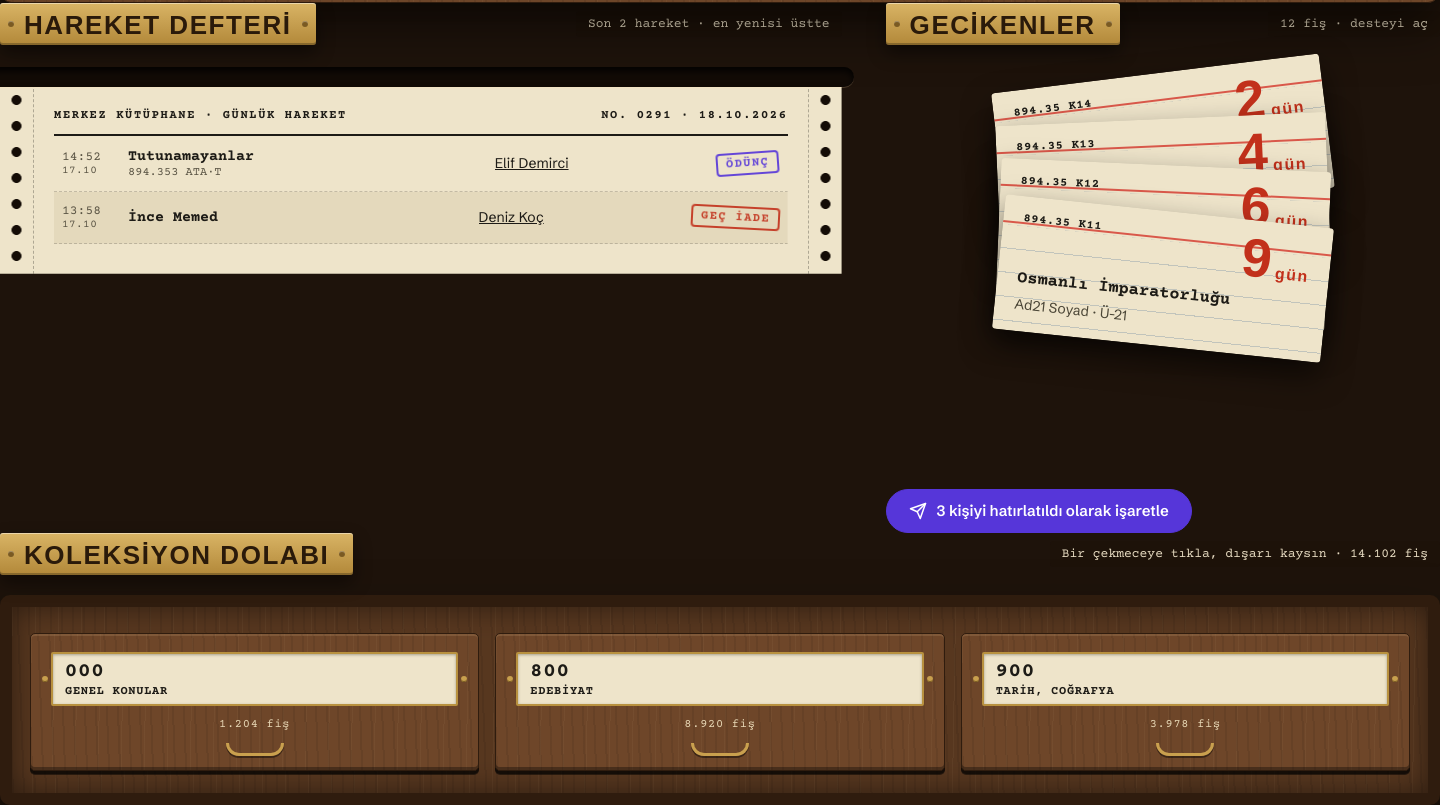
Test case: PanelSayfasi › çekmeceyi tıklayınca açar ve kataloğa bağlar
The image size is (1440, 805).
(page scrolled)
Click the button "000 Genel konular 1.204 fiş" at x=255, y=702, box [30,633,479,771]
(page scrolled)
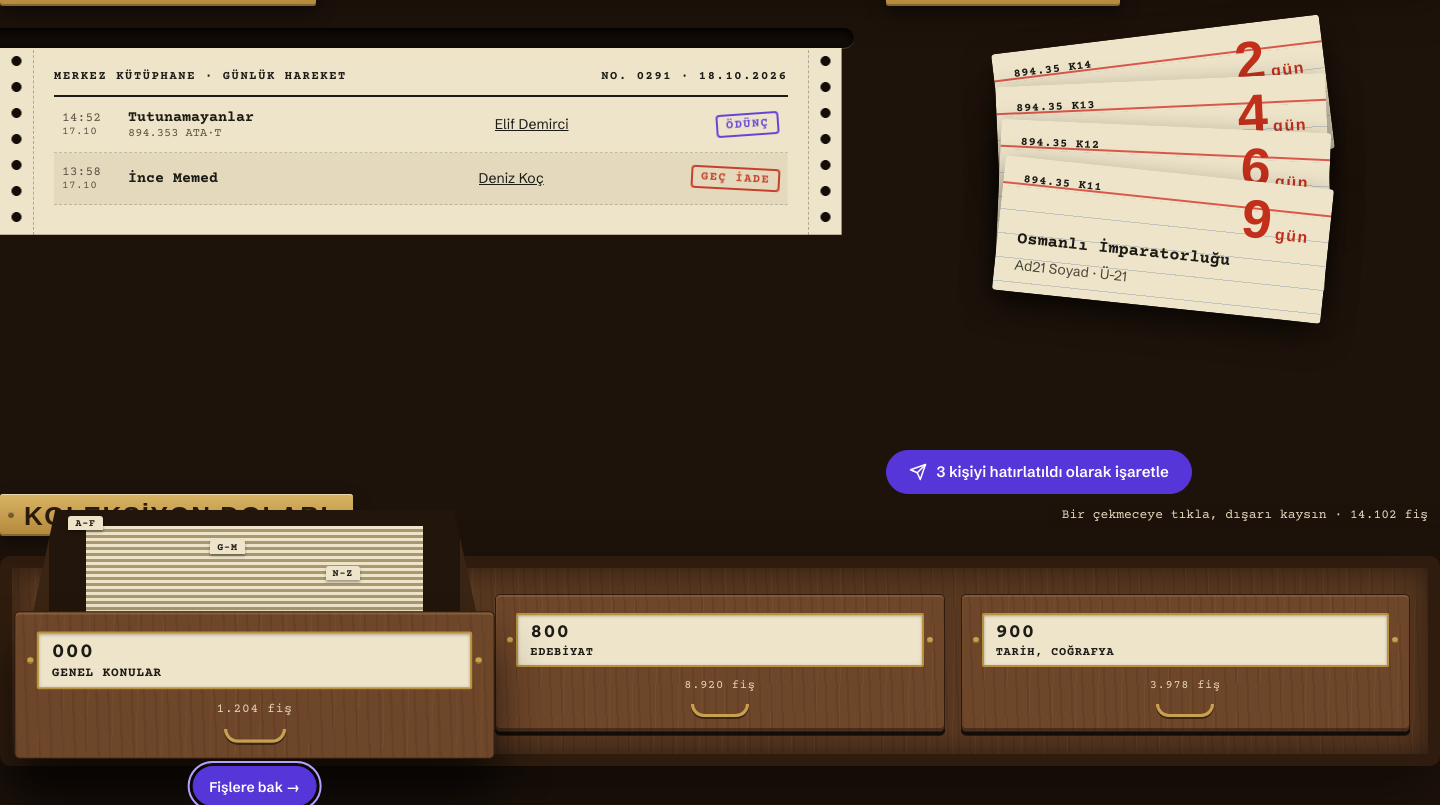
Result: the button "000 Genel konular 1.204 fiş" is expanded at [14,611,495,758]
Press Escape
(page scrolled)
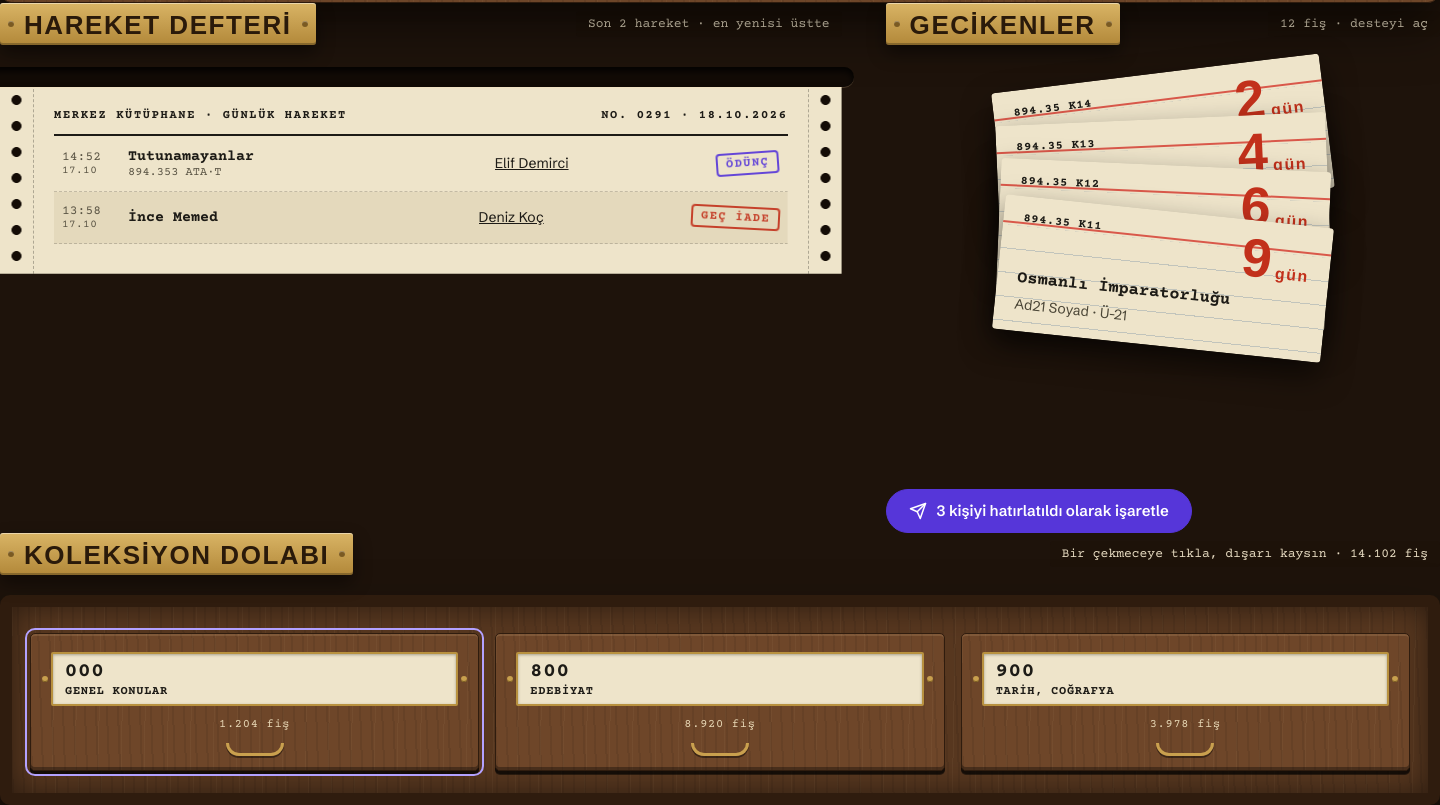
Result: the button "000 Genel konular 1.204 fiş" is collapsed at [30,633,479,771]
